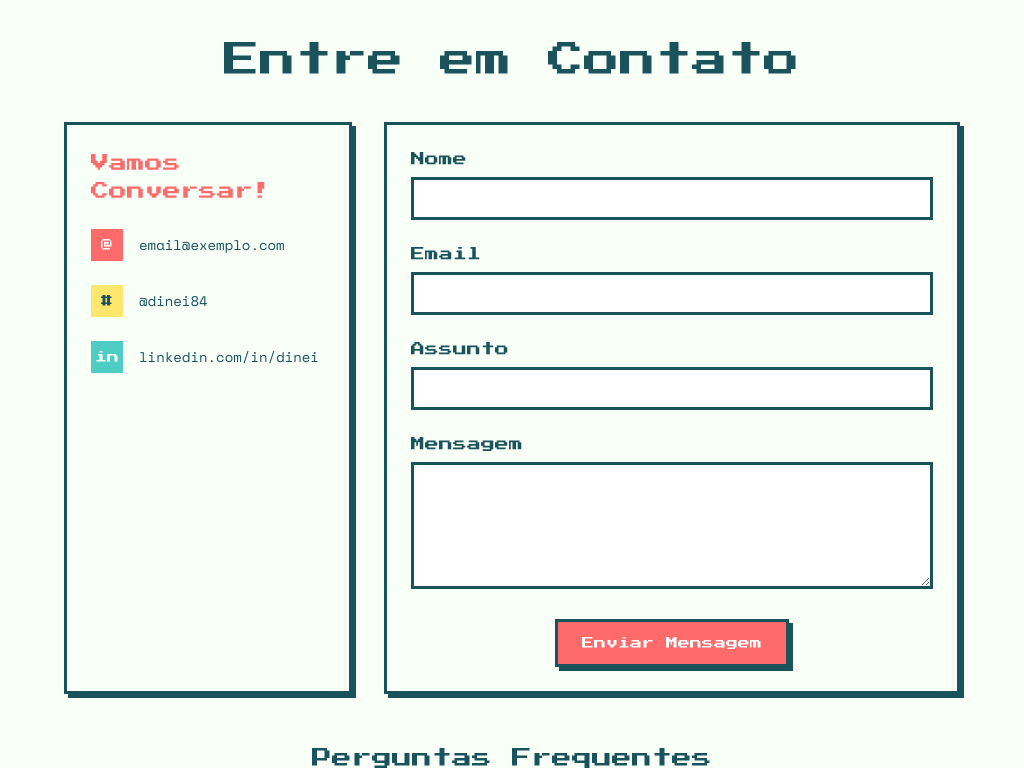
Test: Contact › should show error for invalid email format
Type "João" into the field labelled "Nome".
click(672, 198); type("João")  # box [411, 177, 933, 220]
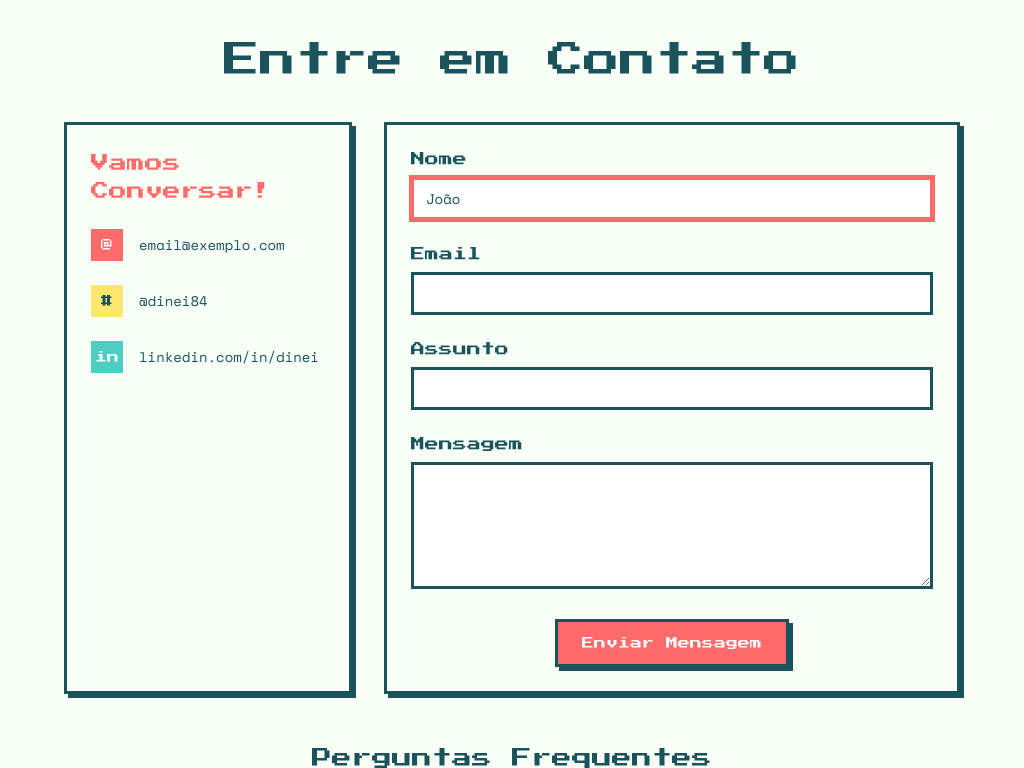
Type "email-invalido" into the field labelled "Email".
click(672, 293); type("email-invalido")  # box [411, 272, 933, 315]
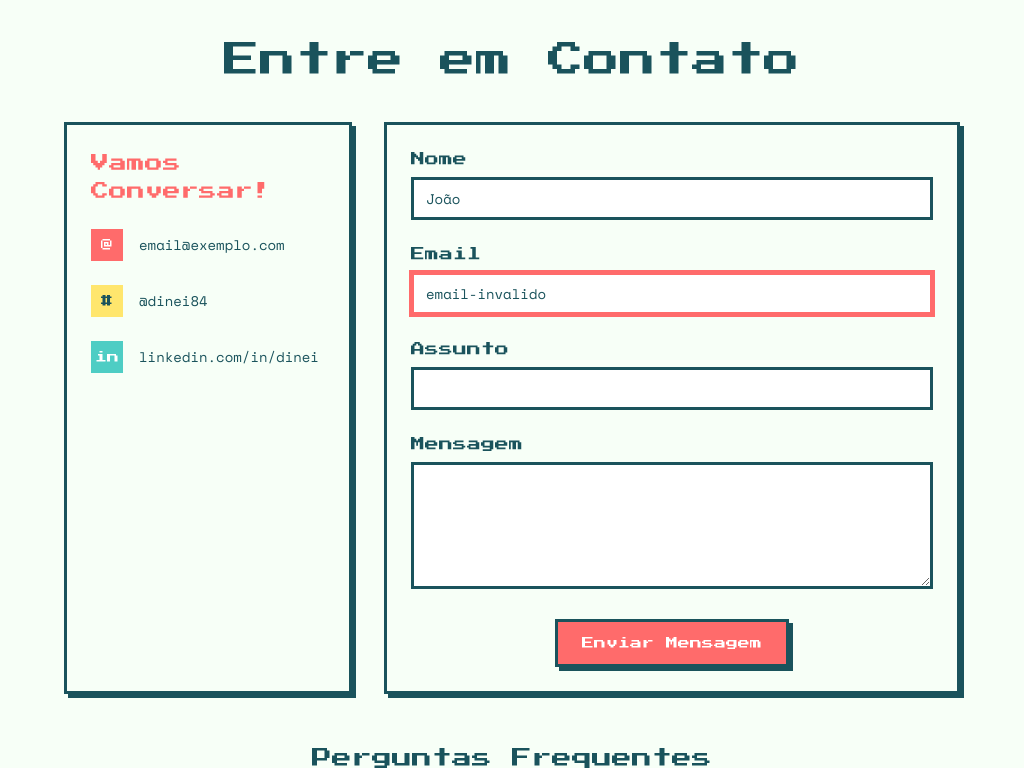
Type "Olá!" into the text box labelled "Mensagem".
click(672, 525); type("Olá!")  # box [411, 462, 933, 589]
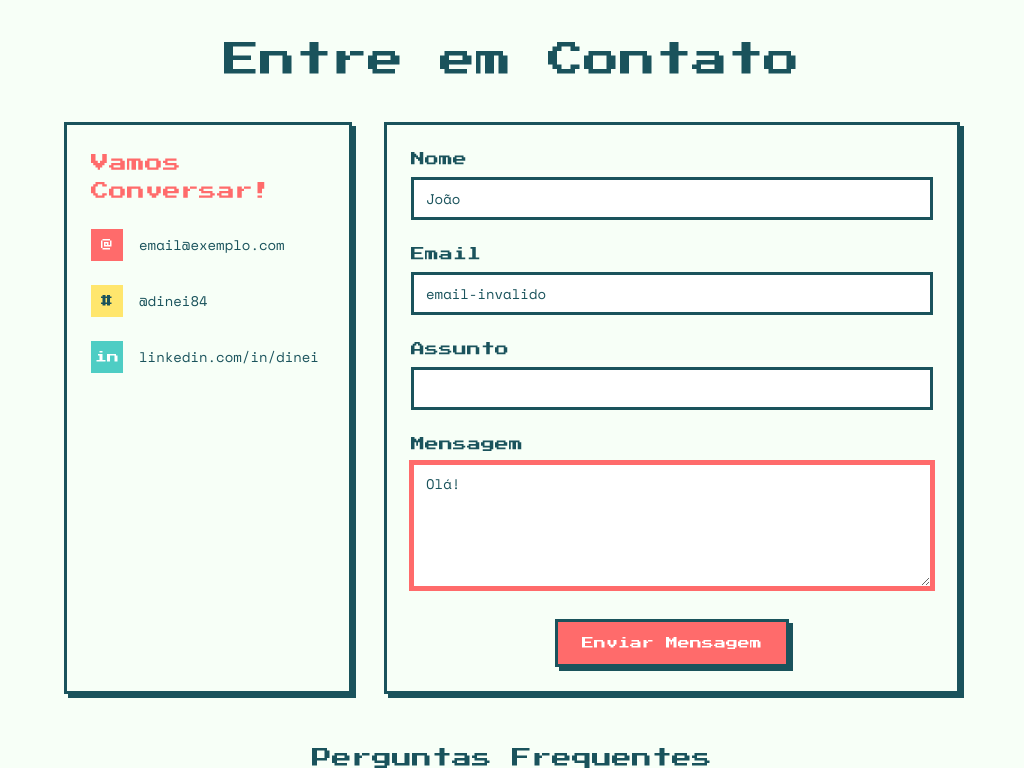
Click the button "Enviar Mensagem".
click(672, 643)  # box [555, 619, 789, 667]
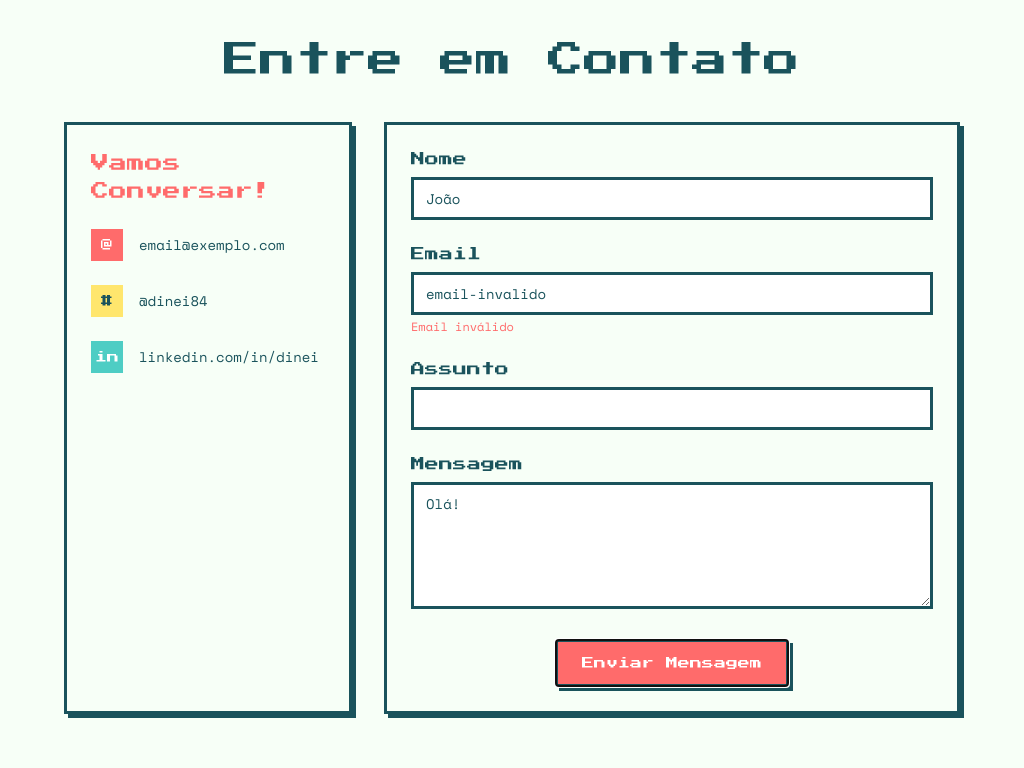
Check: the text "Email inválido" is shown, box [411, 318, 514, 335]
